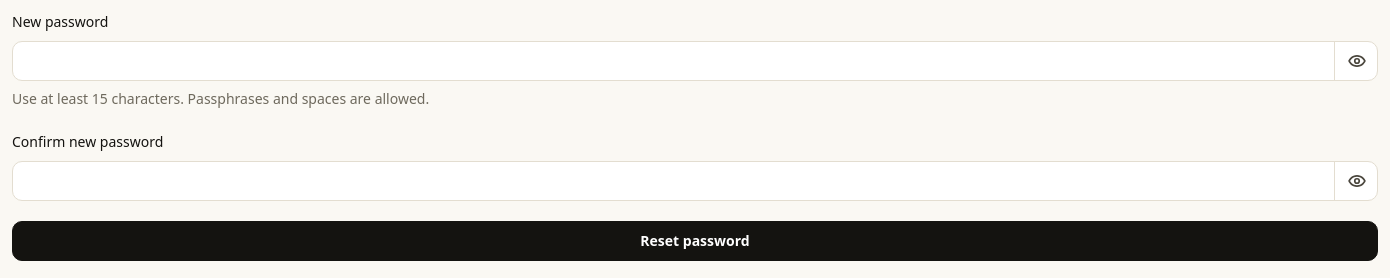
Test: ResetPasswordForm › uses reusable new-password fields and preserves focus on reveal
Type "a sufficiently long password" into the password field labelled "New password".
click(695, 61); type("a sufficiently long password")  # box 12,41 -> 1378,81
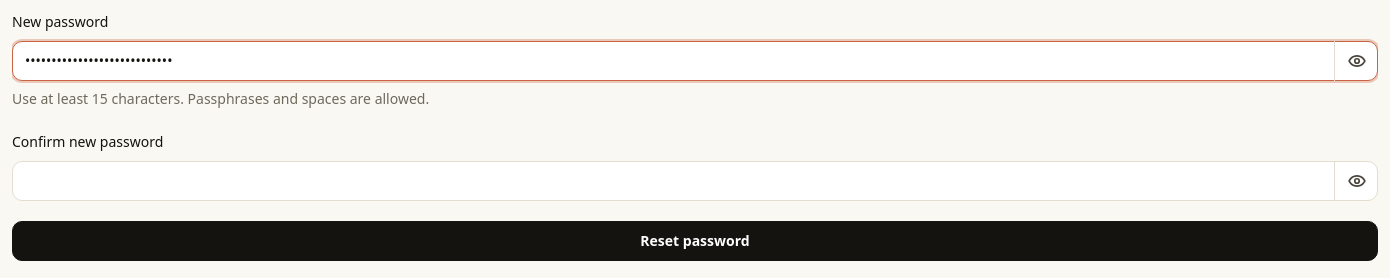
Click the 1st button named "show".
click(1356, 61)  # box 1334,41 -> 1378,81
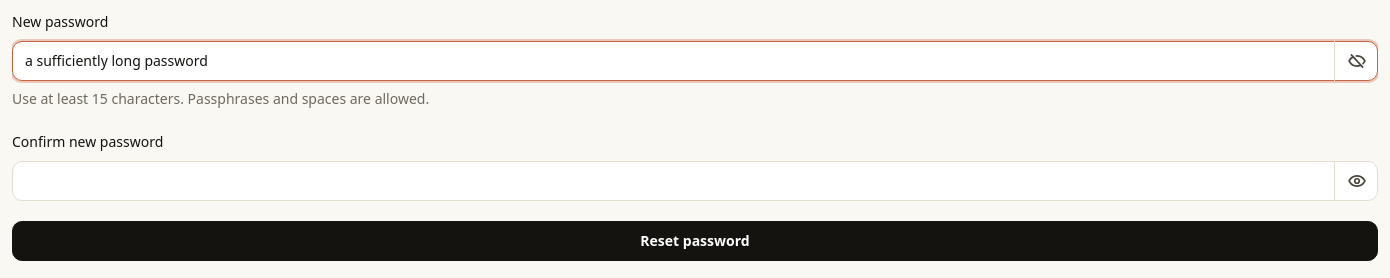
Result: the field labelled "New password" shows its text at 12,41 -> 1378,81
